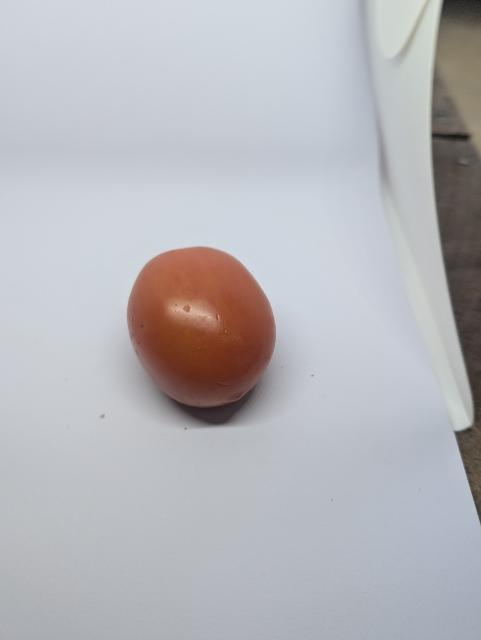red: (119, 239, 287, 420)
